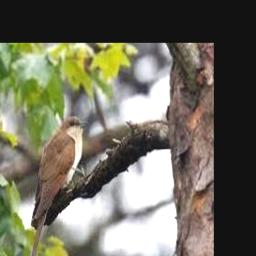Cuckoo: (28, 116, 88, 256)
